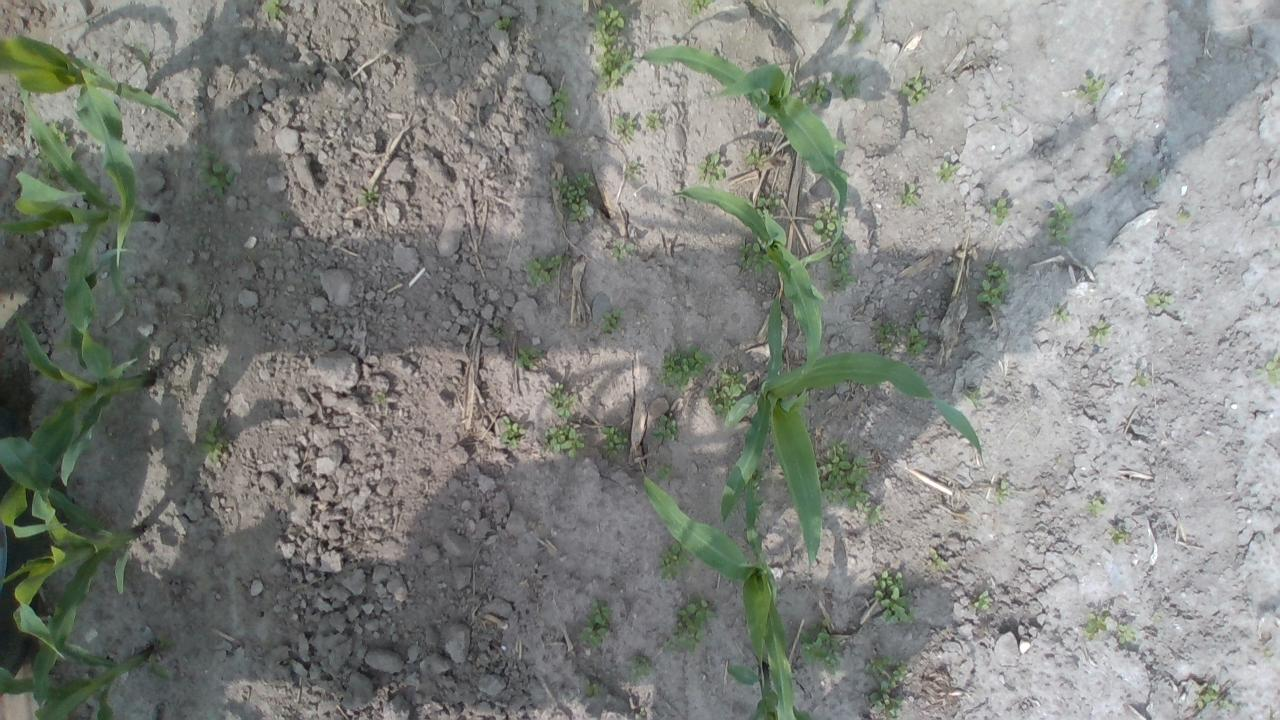Maize: (722, 297, 982, 569), (614, 48, 848, 270), (0, 85, 158, 384), (0, 34, 184, 262), (0, 433, 143, 720), (640, 464, 796, 720), (0, 312, 150, 538), (668, 188, 822, 376), (0, 619, 149, 720), (724, 660, 812, 720)
Weeds: (591, 1, 637, 92), (814, 439, 870, 512), (662, 592, 719, 658), (864, 655, 907, 720), (798, 624, 846, 680), (656, 344, 712, 392), (192, 142, 238, 200), (551, 172, 596, 224), (871, 569, 913, 624), (705, 369, 748, 417), (575, 598, 614, 650), (823, 243, 857, 295), (542, 86, 577, 136), (975, 260, 1009, 306), (544, 424, 585, 459), (655, 542, 690, 582), (198, 414, 225, 465), (524, 253, 562, 289), (544, 382, 579, 421), (1045, 202, 1073, 248), (38, 146, 67, 190), (905, 308, 929, 360), (812, 207, 848, 241), (894, 72, 930, 106), (870, 318, 900, 358), (735, 241, 770, 274), (599, 423, 629, 461), (696, 154, 728, 187), (499, 415, 526, 450), (1074, 75, 1104, 106), (650, 413, 680, 444), (798, 78, 832, 105), (830, 72, 860, 100), (1196, 683, 1228, 709), (1252, 354, 1280, 382), (515, 344, 545, 370), (1083, 611, 1110, 639), (629, 656, 656, 684), (1104, 150, 1130, 178), (600, 306, 626, 334), (609, 240, 641, 262), (756, 191, 784, 216), (924, 546, 950, 572), (894, 183, 921, 207), (490, 317, 513, 342), (614, 114, 639, 137), (835, 0, 855, 28), (1088, 318, 1110, 342), (357, 185, 381, 206), (935, 161, 959, 182), (991, 198, 1009, 224), (746, 146, 769, 166), (1146, 291, 1173, 308), (1116, 623, 1136, 644), (686, 0, 714, 15), (972, 591, 994, 610), (262, 0, 284, 19), (1106, 528, 1129, 546), (582, 680, 604, 698), (962, 385, 982, 404), (750, 467, 765, 492), (848, 21, 864, 44), (493, 14, 513, 32), (1084, 498, 1106, 514), (830, 137, 849, 155), (654, 463, 672, 482), (51, 121, 68, 141), (644, 111, 662, 129), (994, 480, 1008, 503), (865, 506, 881, 524), (1134, 369, 1150, 386), (1144, 176, 1160, 192), (1260, 645, 1274, 663), (623, 162, 641, 176), (1176, 209, 1190, 224), (1054, 308, 1068, 320), (374, 391, 387, 402), (812, 0, 826, 10)
